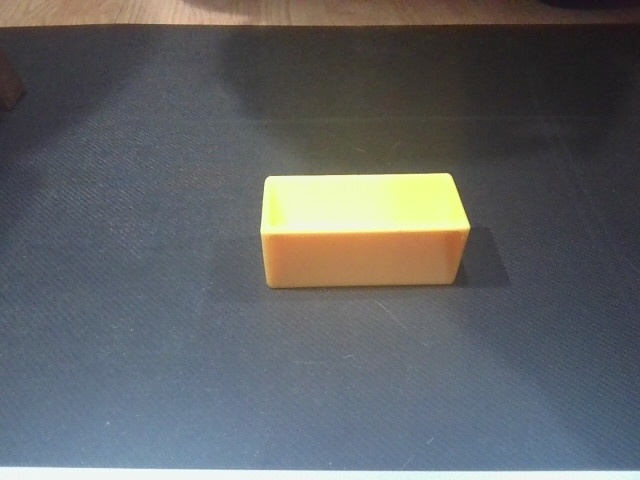YellowSample: (257, 172, 473, 290)
